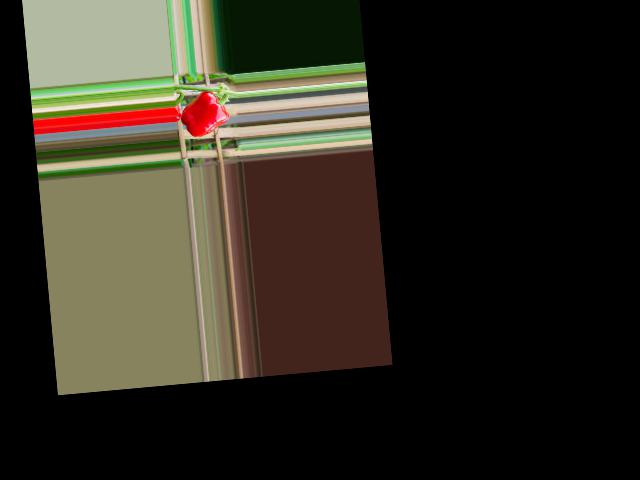bell_pepper: (179, 86, 231, 141)
